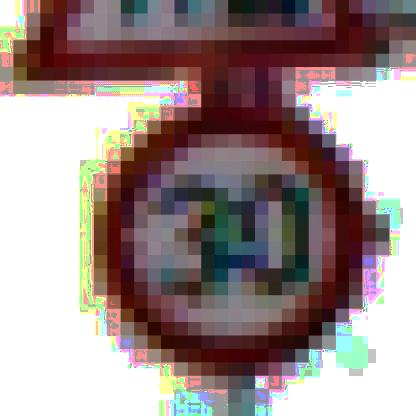Speed Limit -30-: (85, 104, 382, 380)
